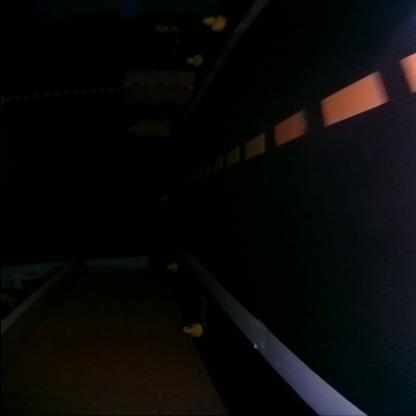Duckie: (201, 14, 225, 30), (181, 322, 199, 336), (186, 54, 200, 66), (164, 262, 174, 268)
